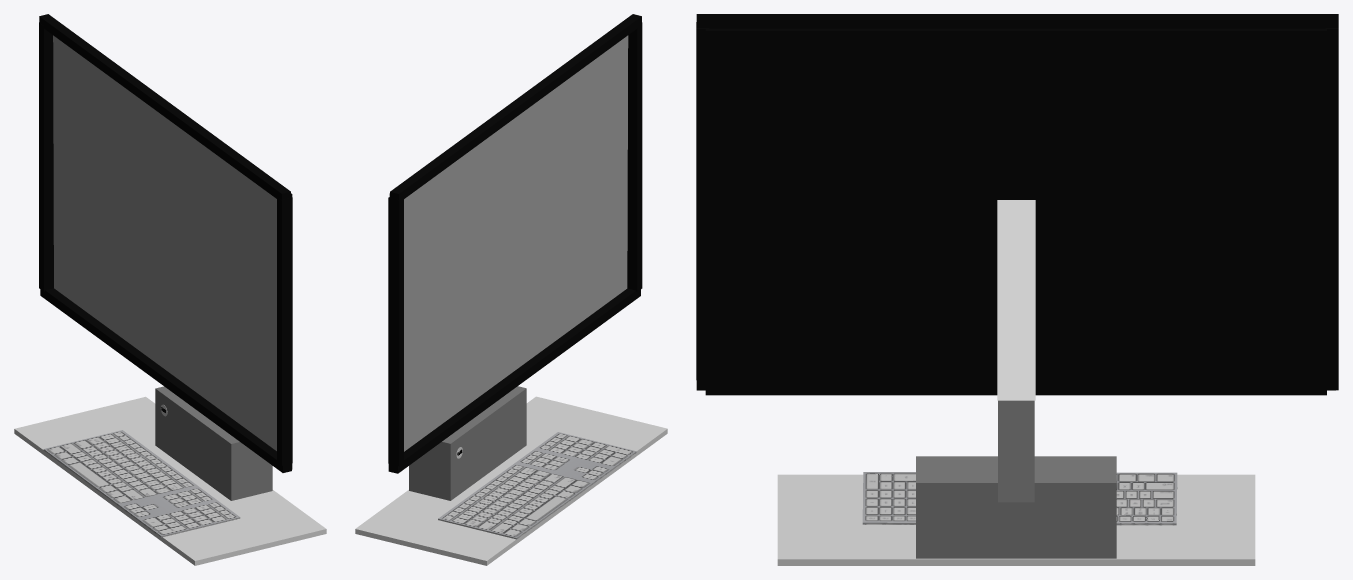
Rendered from computer.gltf.
3 renders of one model, left to right at view 1: azimuth 30°, elevation 25°; view 2: azimuth 150°, elevation 25°; view 3: azimuth 270°, elevation 25°, orthographic. The views are drawn at different scales.
Visible parts, largest first — view 1: Plane, Box7, Box9, Box10, Box1, Box2, Box4, Box3; view 2: Plane, Box7, Box9, Box10, Box1, Box2, Box3, Box4; view 3: Box5, Box7, Box10, Box1, Box6, Box9, Box3, Box8, Box4.
Part boxes in pixels (bbox=[...]): Plane: bbox=[53, 35, 276, 450]; Box7: bbox=[14, 396, 326, 565]; Box9: bbox=[43, 430, 240, 537]; Box10: bbox=[155, 386, 272, 500]; Box1: bbox=[39, 14, 290, 199]; Box2: bbox=[40, 288, 291, 472]; Box4: bbox=[277, 196, 292, 465]; Box3: bbox=[39, 22, 53, 291]; Plane: bbox=[404, 35, 628, 451]; Box7: bbox=[355, 396, 667, 565]; Box9: bbox=[438, 432, 636, 539]; Box10: bbox=[409, 386, 526, 500]; Box1: bbox=[390, 14, 641, 199]; Box2: bbox=[388, 288, 640, 473]; Box3: bbox=[388, 197, 403, 466]; Box4: bbox=[627, 22, 642, 291]; Box5: bbox=[705, 28, 1326, 395]; Box7: bbox=[777, 474, 1255, 565]; Box10: bbox=[916, 456, 1116, 558]; Box1: bbox=[696, 14, 1338, 28]; Box6: bbox=[997, 200, 1035, 400]; Box9: bbox=[862, 472, 1177, 525]; Box3: bbox=[1325, 28, 1338, 380]; Box8: bbox=[998, 400, 1034, 502]; Box4: bbox=[696, 22, 709, 380].
Bounding box in the file's own units: 1.32 × 2.77 × 3.2.
13 materials, 1 textured.
